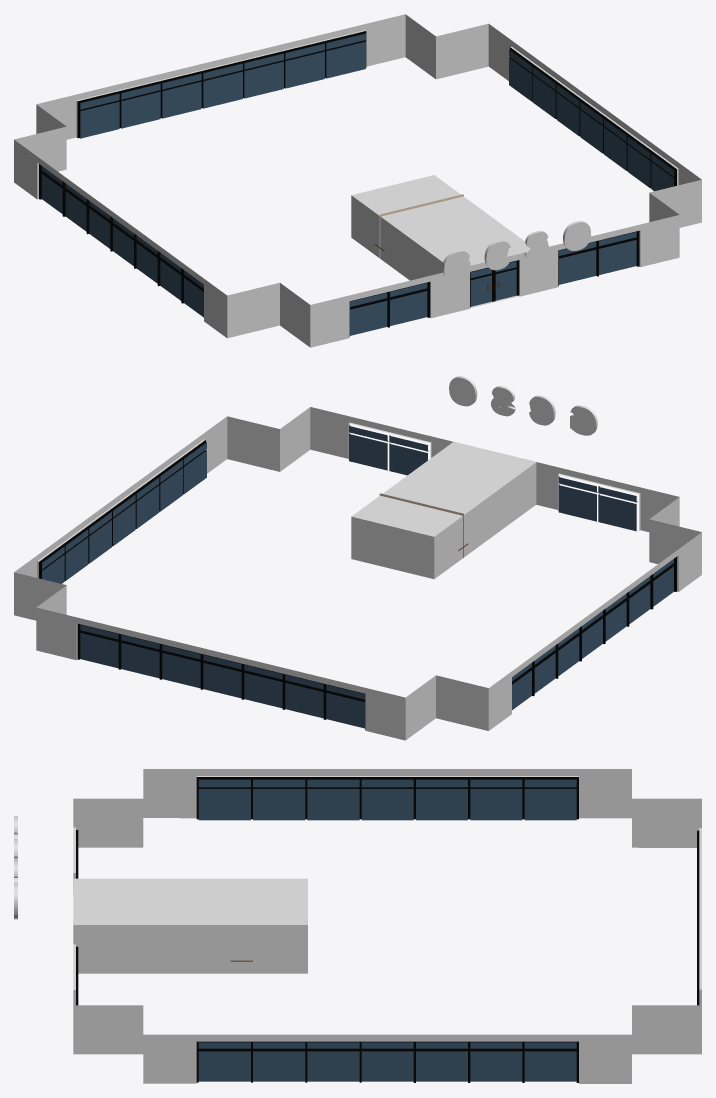
The model's file is BGC3_Base.fbx.
The picture shows the model from 3 angles, top to bottom: view 1: azimuth 30°, elevation 25°; view 2: azimuth 150°, elevation 25°; view 3: azimuth 270°, elevation 25°; orthographic projection. The views are drawn at different scales.
Visible parts, largest first — view 1: BGC3_Base_Main, BGC3_Base_Windows, BGC3_Base_InteriorWall, BGC3_Base_Frame, GCSO, BGC3_Base_Door1, BGC3_Base_Door2; view 2: BGC3_Base_Main, BGC3_Base_Windows, BGC3_Base_InteriorWall, BGC3_Base_Frame, GCSO; view 3: BGC3_Base_Main, BGC3_Base_Windows, BGC3_Base_InteriorWall, BGC3_Base_Frame.
Boxes of the visible parts, x1,y1,x2,y2 form: BGC3_Base_Main: (14,14,701,347); BGC3_Base_Windows: (42,33,673,335); BGC3_Base_InteriorWall: (351,175,530,308); BGC3_Base_Frame: (39,31,676,336); GCSO: (442,221,590,280); BGC3_Base_Door1: (470,267,493,307); BGC3_Base_Door2: (494,260,518,301); BGC3_Base_Main: (14,407,701,740); BGC3_Base_Windows: (42,426,673,728); BGC3_Base_InteriorWall: (351,442,536,579); BGC3_Base_Frame: (39,425,676,729); GCSO: (449,376,597,435); BGC3_Base_Main: (73,769,701,1083); BGC3_Base_Windows: (198,779,576,1081); BGC3_Base_InteriorWall: (73,878,307,973); BGC3_Base_Frame: (76,777,699,1082).
Bounding box in the file's own units: 3139 × 538 × 3436.
